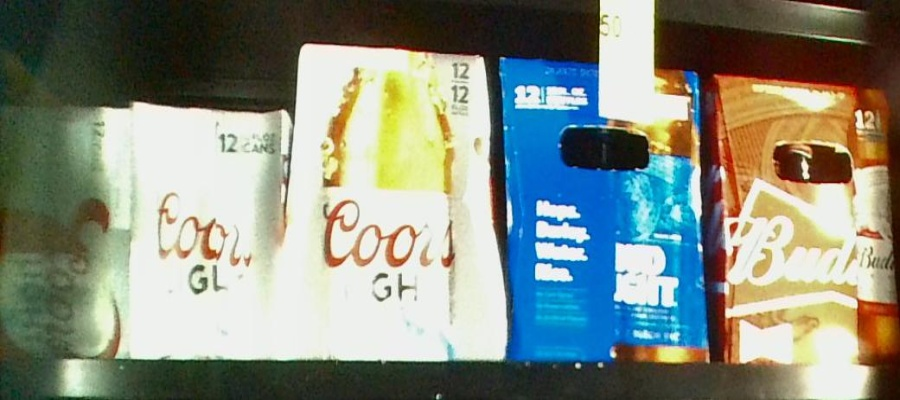bottle: (299, 42, 499, 365), (501, 53, 706, 361), (711, 77, 900, 367), (129, 106, 286, 357), (1, 104, 128, 362)
